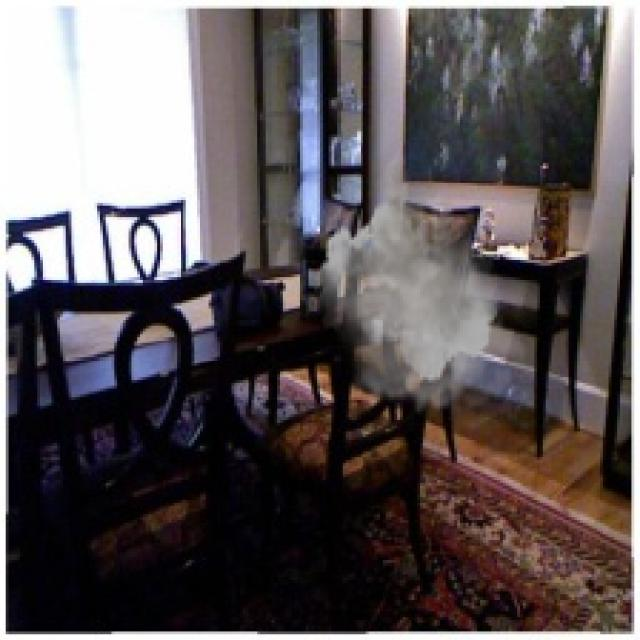smoke: (314, 152, 529, 417)
